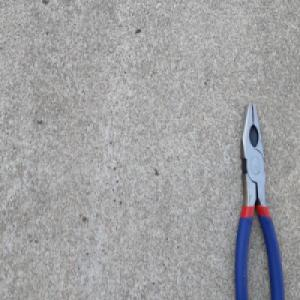Pliers: (233, 98, 285, 300)
